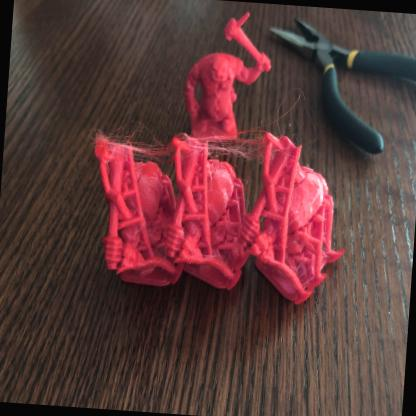fail: (209, 120, 270, 162), (133, 134, 173, 163), (108, 124, 135, 144)
